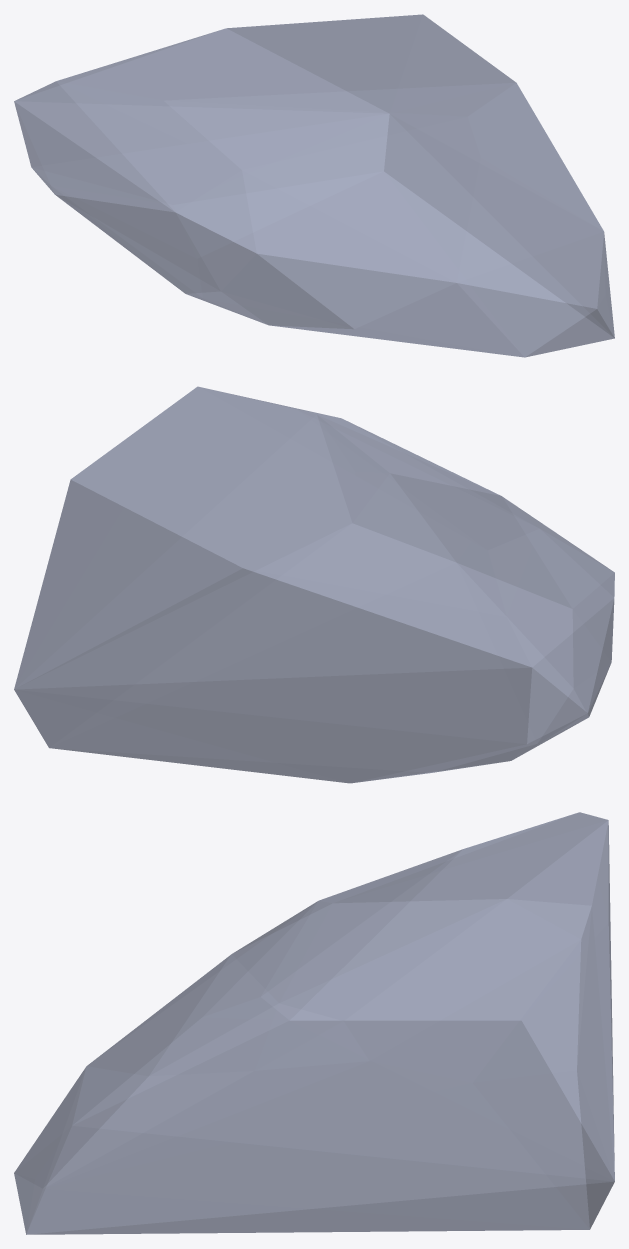
3 renders of one model, top to bottom at view 1: azimuth 30°, elevation 25°; view 2: azimuth 150°, elevation 25°; view 3: azimuth 270°, elevation 25°, orthographic. The views are drawn at different scales.
Parts seen in each view (by area): view 1: Shape_IndexedFaceSet.181_Shape_IndexedFaceSet.610; view 2: Shape_IndexedFaceSet.181_Shape_IndexedFaceSet.610; view 3: Shape_IndexedFaceSet.181_Shape_IndexedFaceSet.610.
Part boxes in pixels (bbox=[...]): Shape_IndexedFaceSet.181_Shape_IndexedFaceSet.610: bbox=[14, 14, 614, 357]; Shape_IndexedFaceSet.181_Shape_IndexedFaceSet.610: bbox=[14, 386, 614, 783]; Shape_IndexedFaceSet.181_Shape_IndexedFaceSet.610: bbox=[14, 812, 614, 1234].
Bounding box in the file's own units: 0.1585 × 0.0721 × 0.1757.
